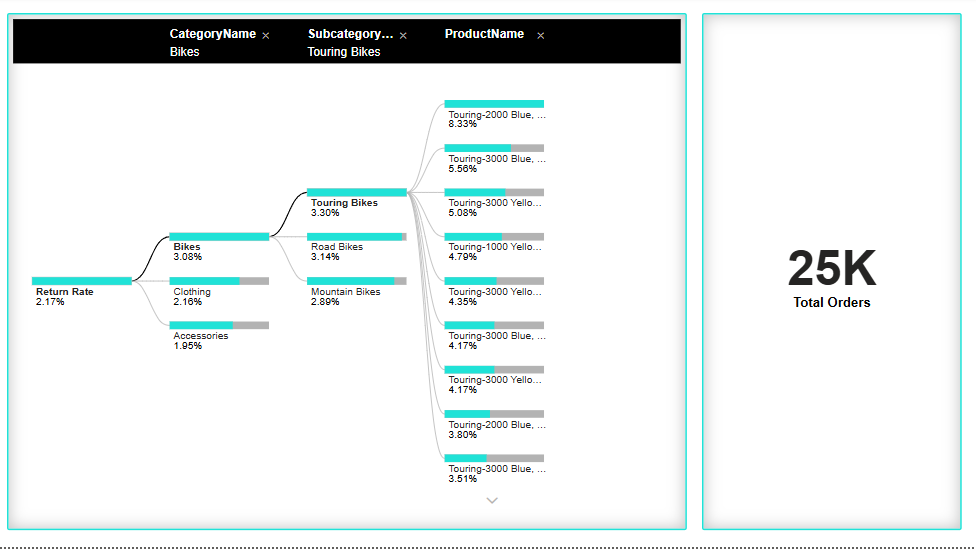

Layout of this report page (visuals, bound fields, positions):
{"tool":"powerbi","page":{"name":"Decomposition Tree","canvas":[1280,720],"ordinal":4},"visuals":[{"type":"decompositionTreeVisual","fields":{"Analyze":["Measure table.Return Rate"],"ExplainBy":["Product Categories Lookup.CategoryName","Product Subcategories Lookup.SubcategoryName","Product Lookup.ProductName"]},"box":[10.5,20.9,890.2,676.8],"z":0},{"type":"card","fields":{"Values":["Measure table.Total Orders"]},"box":[920.3,20.9,340.4,676.8],"z":1000}]}

Visuals, with their boxes in screenshot pixels (x1, y1, x2, y2), scaled from the page's 1280x720 canvas onto the 976x549 screenshot:
decompositionTreeVisual - Measure table.Return Rate x Product Categories Lookup.CategoryName: box(8, 16, 687, 532)
card - Measure table.Total Orders: box(702, 16, 961, 532)
